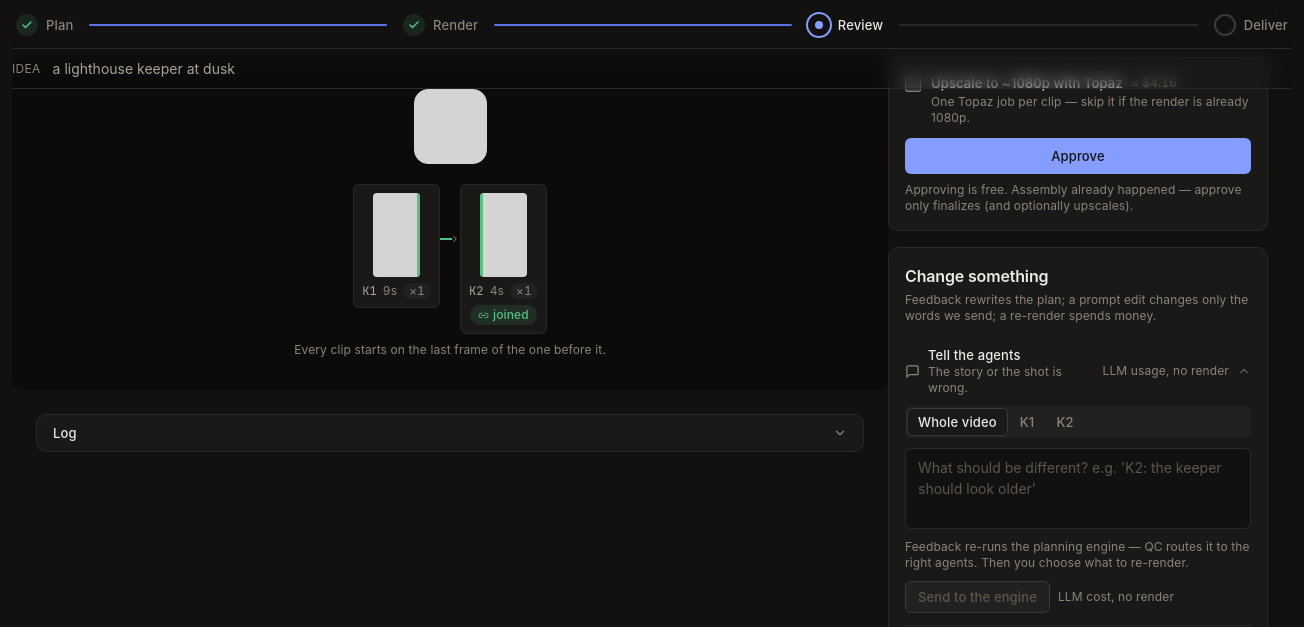
PromptSheet › collapses a character's reference set into one counted line (U11)
Expected: the element named "Review stage" is shown, [12,57,888,390]
Click the button "K2 4s ×1 joined" at (503, 259), box [460,184,547,334]
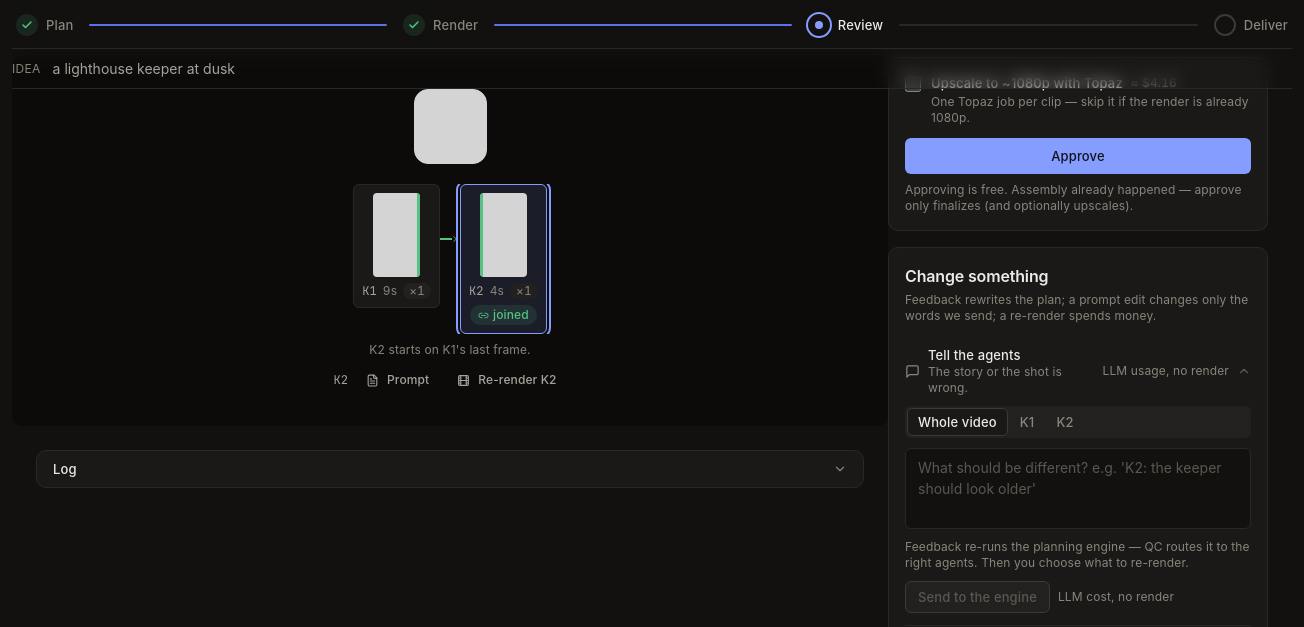
Click the button with aria-label "Prompt for K2" at (398, 380), box [356,366,439,394]
(page scrolled)
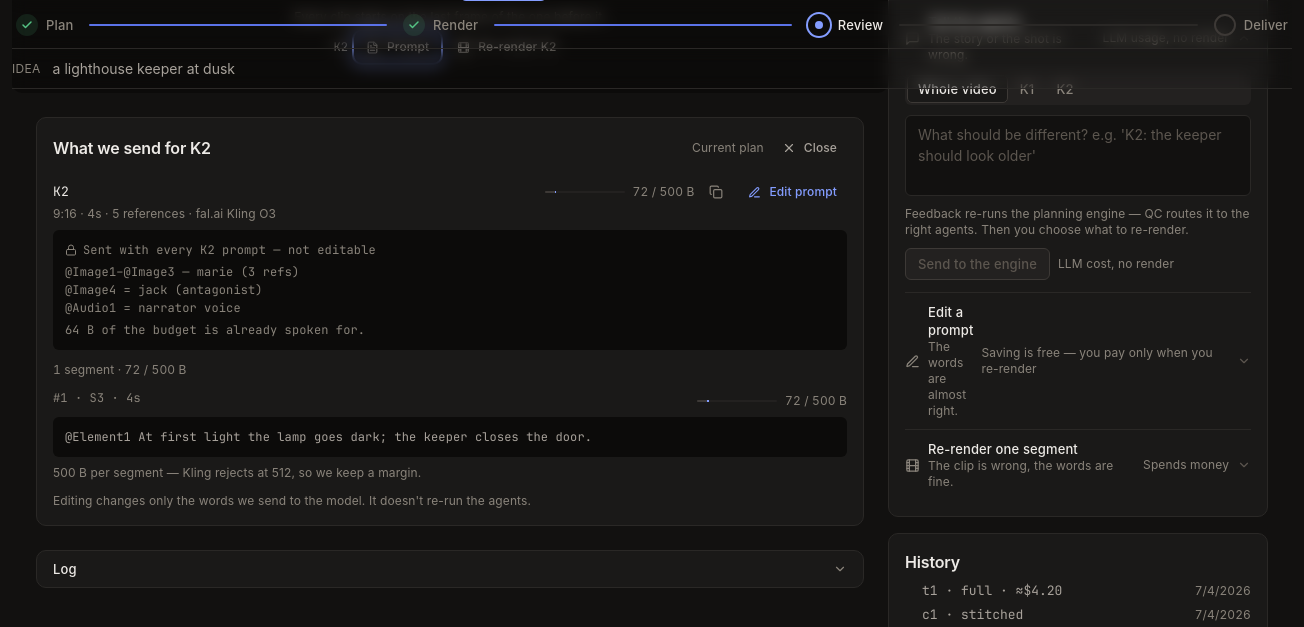
Expected: the element with test id "prompt-sheet" shows "@Image1–@Image3 — marie (3 refs)", [36,117,864,526]
Expected: the element with test id "prompt-sheet" shows "@Image4 = jack (antagonist)", [36,117,864,526]
Expected: the element with test id "prompt-sheet" shows "@Audio1 = narrator voice", [36,117,864,526]
